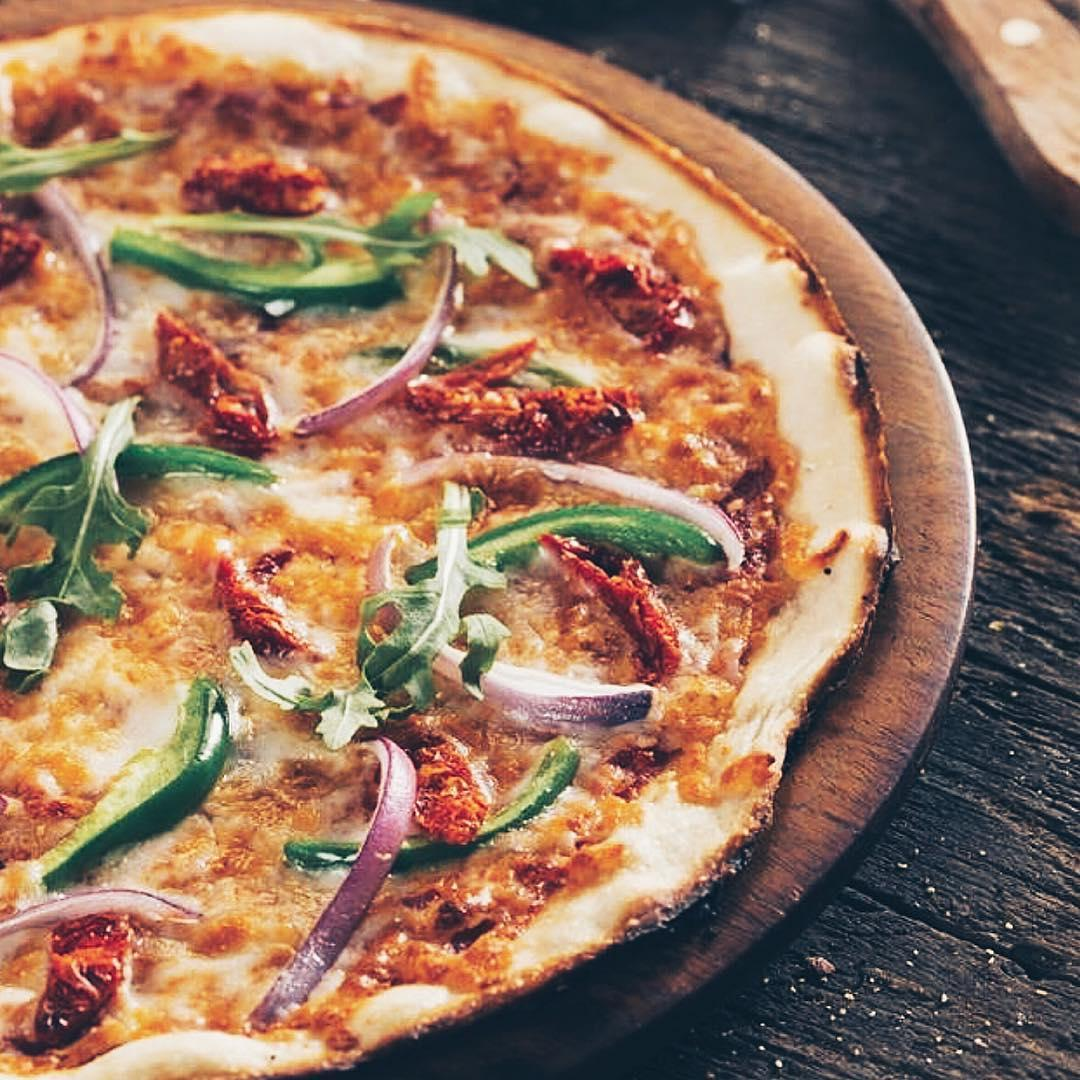Arugula: (19, 401, 225, 686), (45, 685, 230, 870), (111, 199, 434, 301), (401, 491, 714, 586), (361, 569, 494, 690), (253, 657, 390, 738), (0, 119, 160, 184), (487, 741, 584, 830)
Cheese: (253, 453, 369, 541)
Onion: (270, 725, 408, 1024), (401, 449, 750, 552), (289, 237, 462, 428), (39, 185, 129, 393), (433, 657, 662, 734), (5, 355, 94, 445), (3, 887, 196, 925)
Pizza: (1, 21, 888, 1080)
Tomatoes: (403, 361, 630, 456), (547, 529, 676, 676), (149, 319, 276, 436), (557, 245, 704, 345), (405, 705, 485, 849), (45, 921, 126, 1039), (213, 555, 310, 652), (173, 161, 330, 220)
